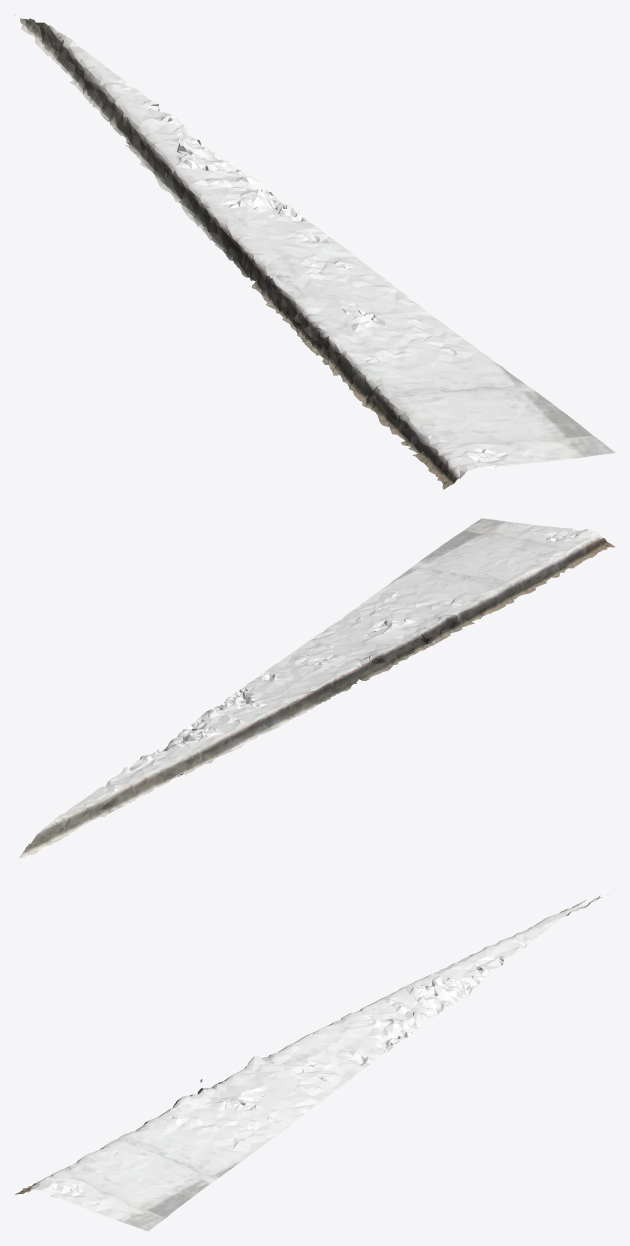
3 views of the same model, one above another, from view 1: azimuth 30°, elevation 25°; view 2: azimuth 150°, elevation 25°; view 3: azimuth 330°, elevation 25° (orthographic). The views are drawn at different scales.
Size of the model in its own units: 1.54 by 0.2338 by 9.28.
Materials: 1 (1 with a texture image).
